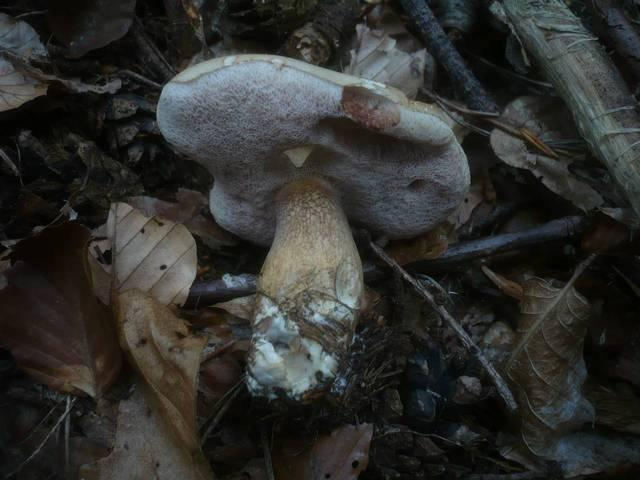Non-edible Mushroom: (160, 56, 466, 404)
